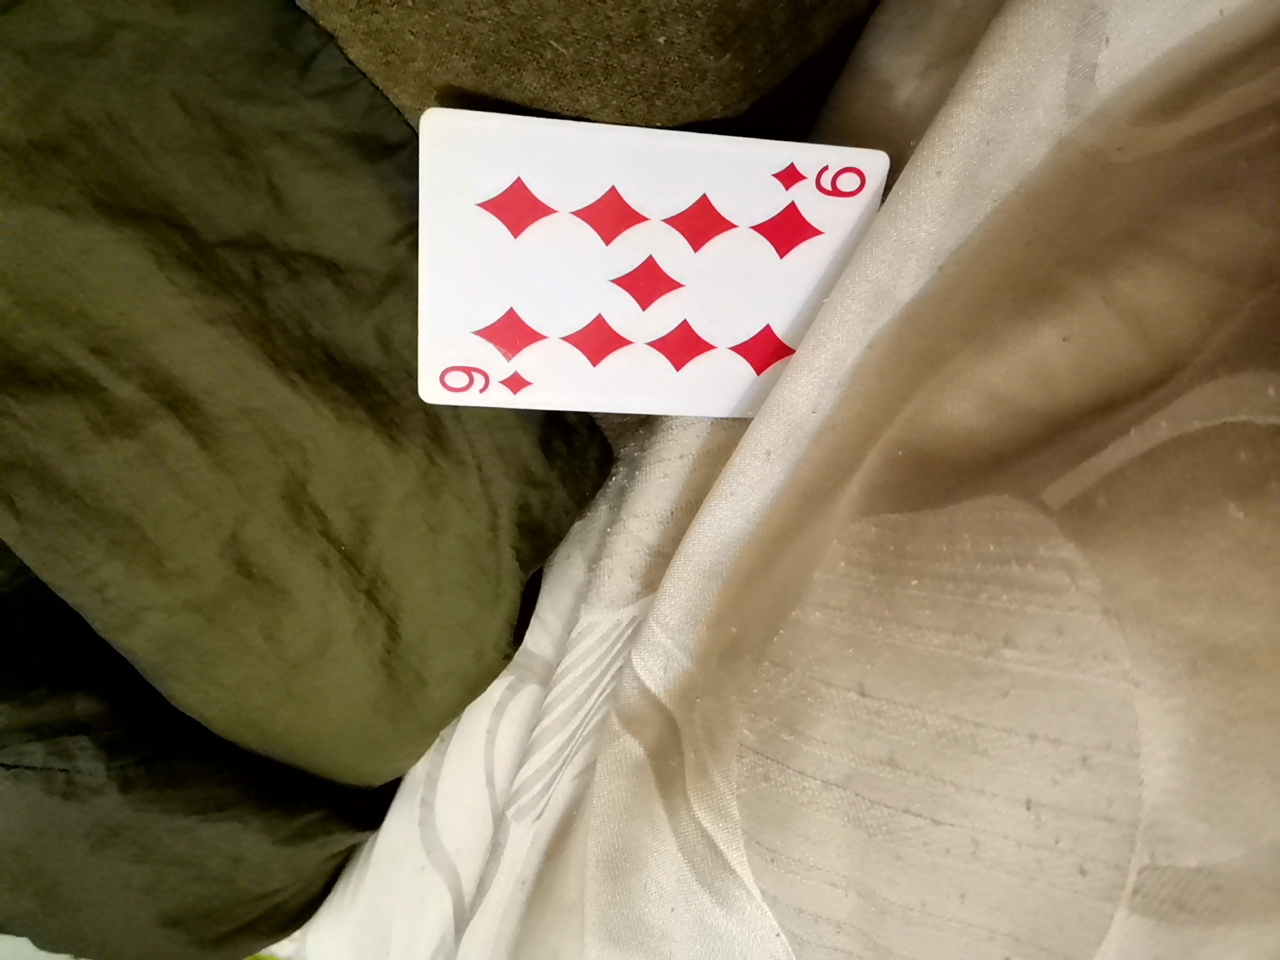fk 9: (397, 106, 900, 444)
